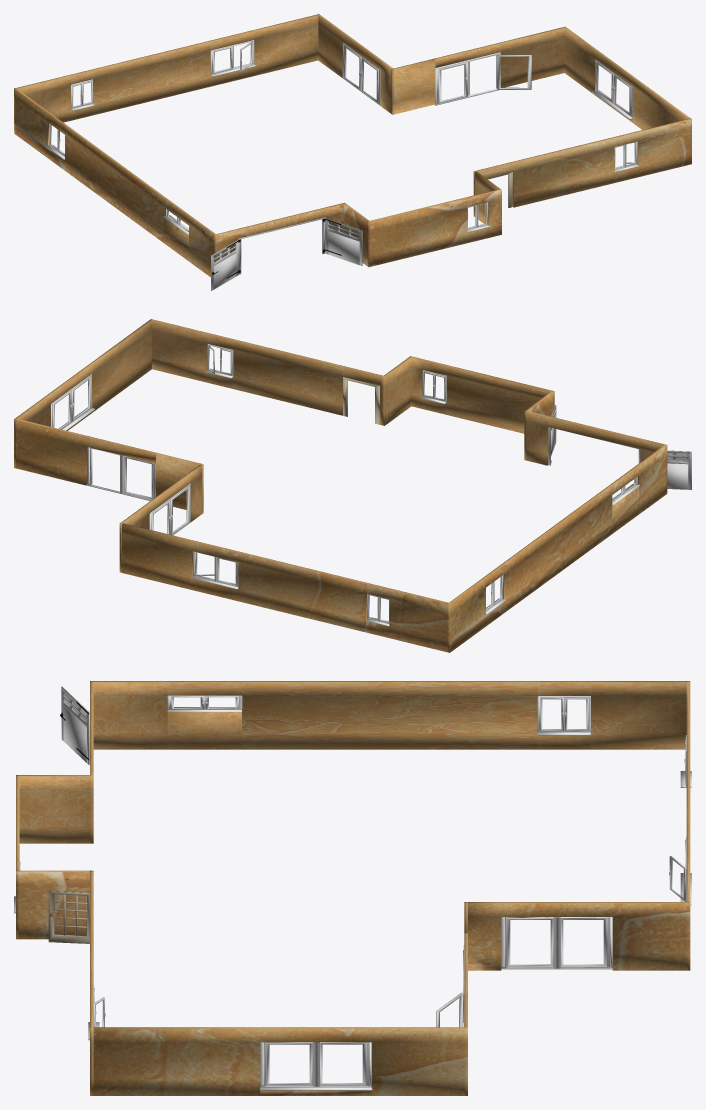
File: wall_5_2_outside_base_total_tex_v5.fbx
3 views of the same model, one above another, from view 1: azimuth 30°, elevation 25°; view 2: azimuth 150°, elevation 25°; view 3: azimuth 270°, elevation 25° (orthographic). The views are drawn at different scales.
Parts seen in each view (by area): view 1: Cube, gardoor1_1DOGD, gardoor2_1DOGD, gardoor1_1DOORGD, Circle.007, Cube.022; view 2: Cube, Circle.007, gardoor2_1DOGD; view 3: Cube, Circle.008, Circle.006, Door_WOOD_-_DR1, gardoor2_1DOGD, Door_GLASSDR1, gardoor2_1DOORGD.
Boxes of the visible parts, x1=… form: Cube: x1=14, y1=14, x2=691, y2=277; gardoor1_1DOGD: x1=328, y1=231, x2=359, y2=265; gardoor2_1DOGD: x1=213, y1=253, x2=236, y2=289; gardoor1_1DOORGD: x1=325, y1=218, x2=362, y2=265; Circle.007: x1=435, y1=52, x2=500, y2=105; Cube.022: x1=497, y1=55, x2=531, y2=89; Cube: x1=14, y1=319, x2=667, y2=652; Circle.007: x1=86, y1=447, x2=155, y2=500; gardoor2_1DOGD: x1=667, y1=463, x2=688, y2=489; Cube: x1=16, y1=681, x2=690, y2=1095; Circle.008: x1=501, y1=917, x2=612, y2=969; Circle.006: x1=260, y1=1042, x2=371, y2=1087; Door_WOOD_-_DR1: x1=48, y1=891, x2=89, y2=943; gardoor2_1DOGD: x1=63, y1=706, x2=86, y2=762; Door_GLASSDR1: x1=55, y1=895, x2=85, y2=935; gardoor2_1DOORGD: x1=61, y1=686, x2=89, y2=764.
Size of the model in its own units: 0.1144 by 0.0102 by 0.0915.
Materials: 9 (1 with a texture image).
